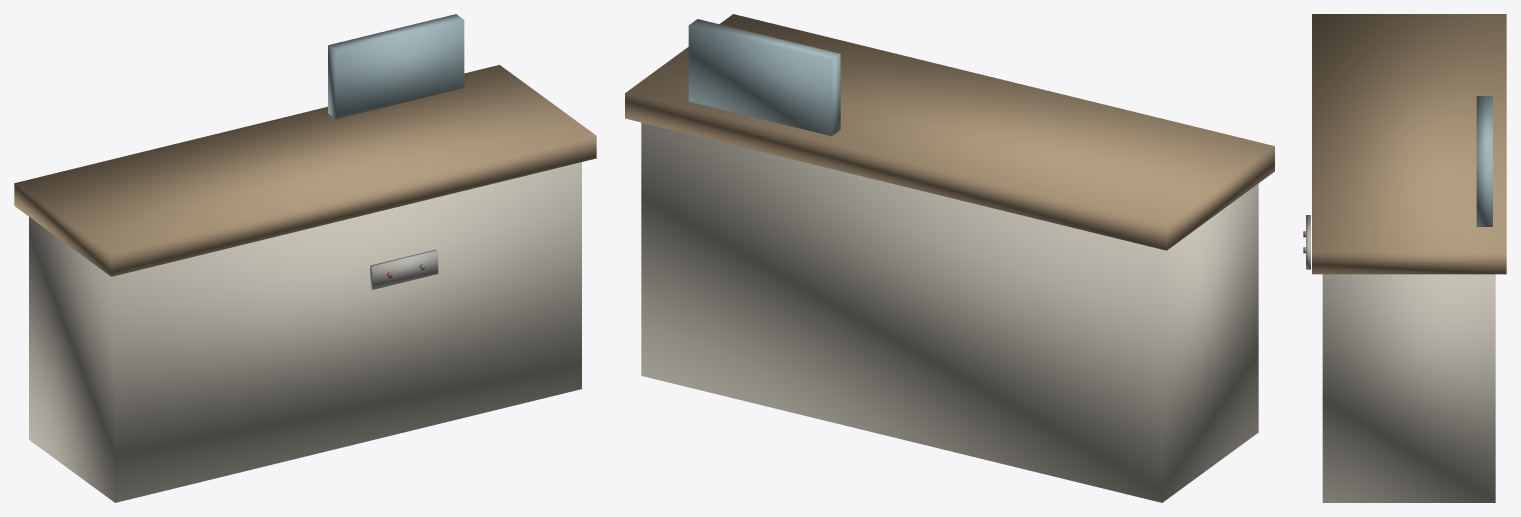
The model's file is pharmacy_pickup_counter__tall.glb.
3 views of the same model, side by side, from view 1: azimuth 30°, elevation 25°; view 2: azimuth 150°, elevation 25°; view 3: azimuth 270°, elevation 25° (orthographic). The views are drawn at different scales.
Visible parts, largest first — view 1: world; view 2: world; view 3: world.
Boxes of the visible parts, box(x1,y1,x2,y2) form: world: box(14, 14, 596, 502); world: box(625, 14, 1274, 502); world: box(1303, 14, 1506, 502).
Bounding box in the file's own units: 2.08 × 1.32 × 0.751.
